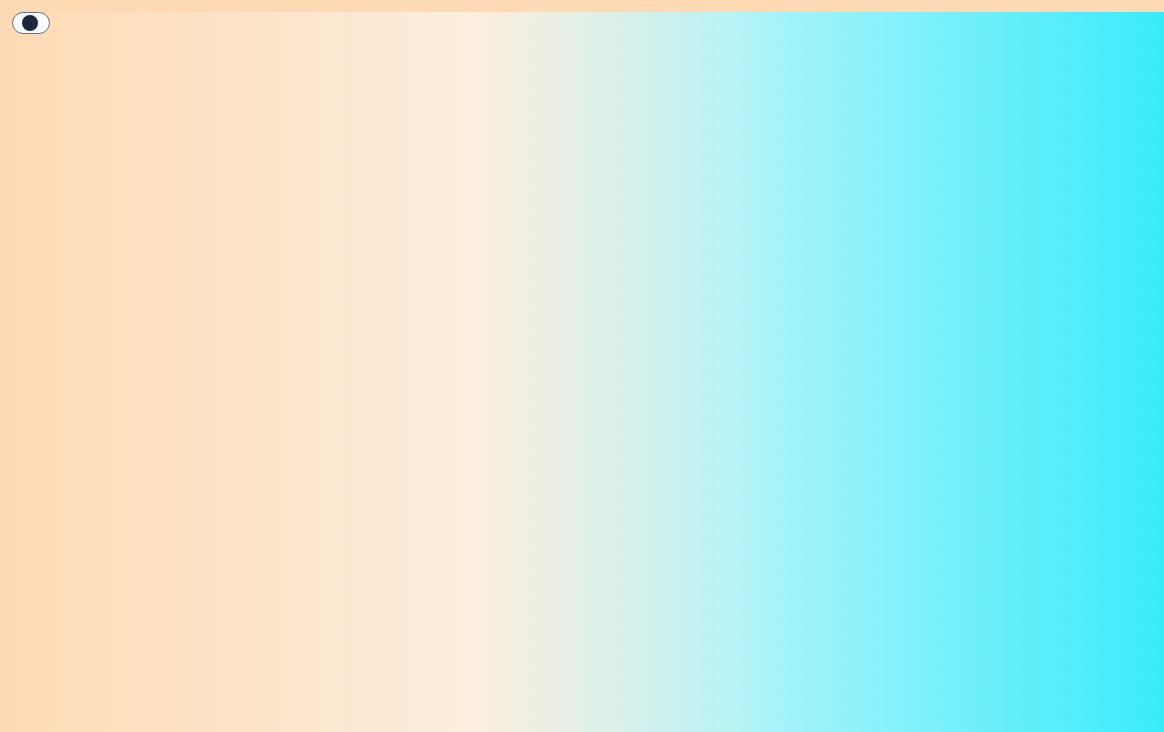
Switch › toggles checked state
Click the switch named "Enable notifications" at (31, 23), box [12, 12, 50, 34]
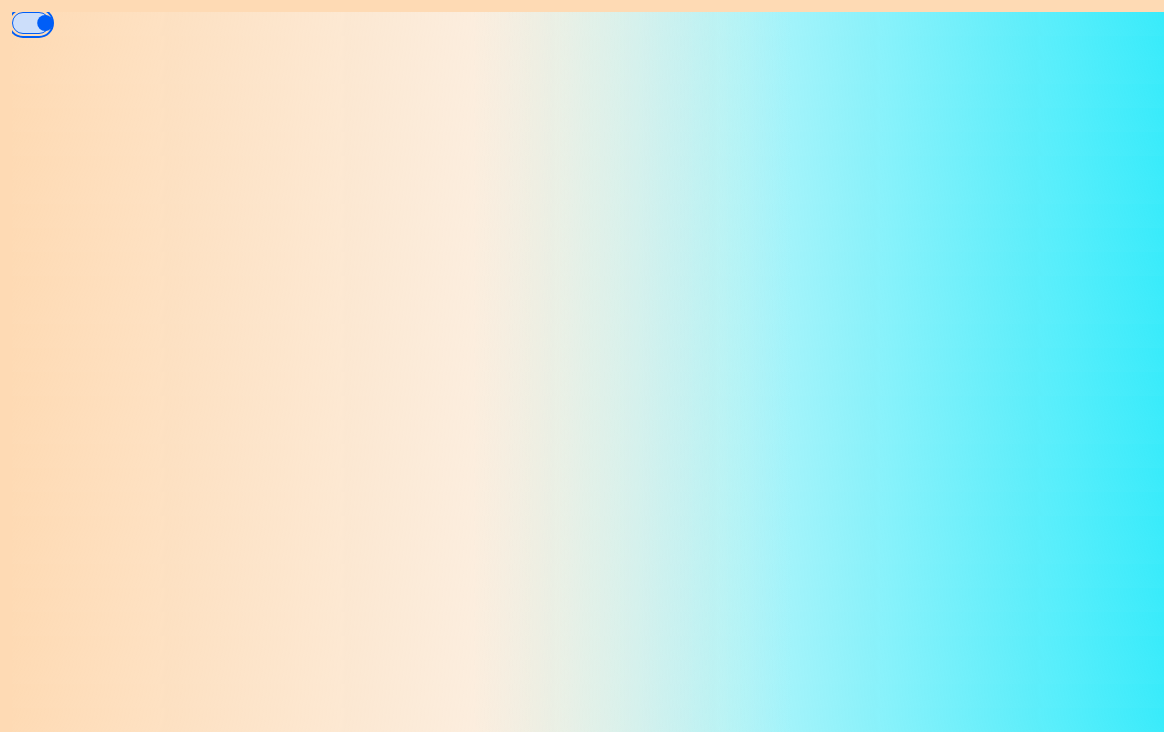
Check: the switch named "Enable notifications" is checked, box [12, 12, 50, 34]
